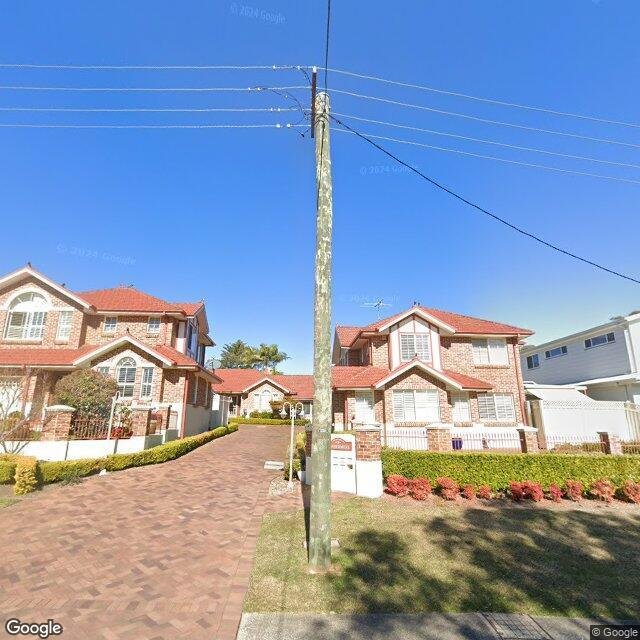crossarm: (309, 67, 317, 138)
timber-pole: (307, 93, 333, 569)
